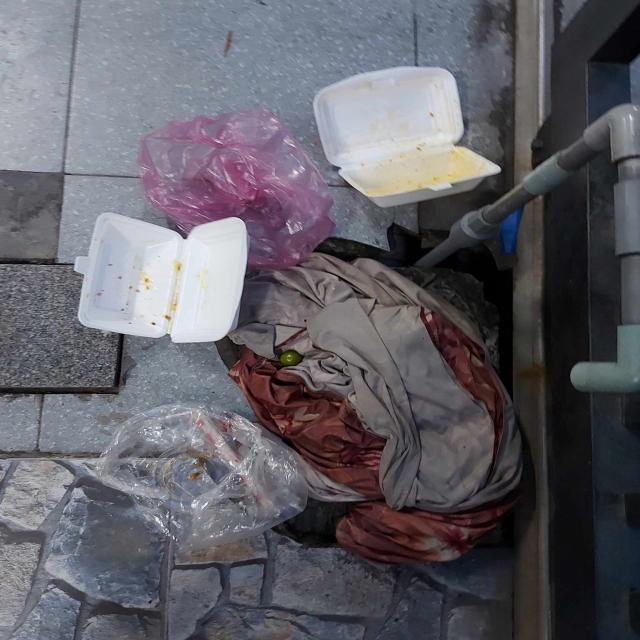bag: (134, 103, 338, 274), (93, 400, 311, 554)
clothes: (227, 254, 525, 566)
foam box: (310, 64, 506, 211), (70, 210, 252, 346)
